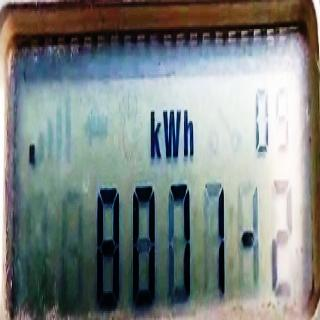-: (241, 228, 256, 252), (28, 140, 36, 165)
0: (128, 177, 158, 314), (252, 74, 270, 164)
1: (216, 186, 232, 299)
2: (268, 165, 297, 308)
7: (168, 175, 195, 302)
8: (94, 182, 122, 316)
9: (273, 76, 292, 158)
